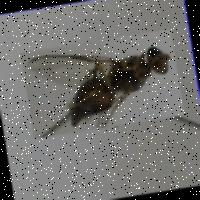Oriental-fruit-fly: (20, 29, 184, 139)
